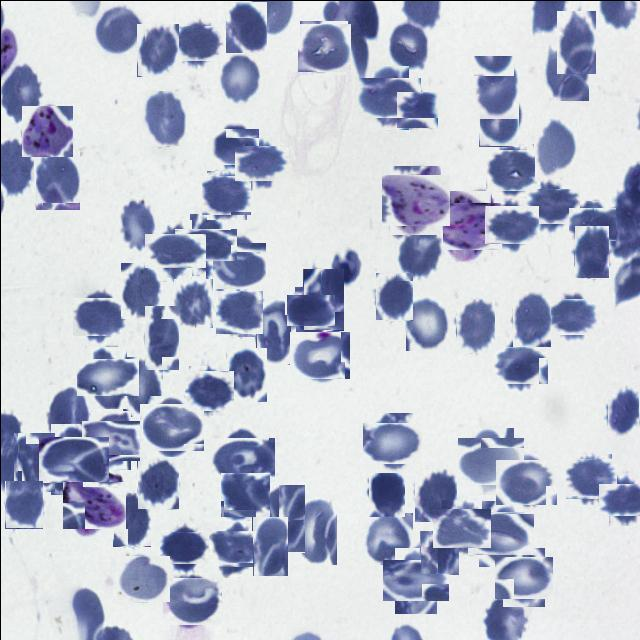red blood cell: (44, 430, 102, 488), (461, 432, 518, 489), (143, 399, 199, 455), (292, 494, 336, 564), (472, 505, 528, 560), (260, 484, 304, 552), (472, 54, 518, 119), (215, 432, 269, 486), (165, 574, 219, 628), (208, 238, 262, 292), (498, 454, 552, 508), (292, 328, 346, 382), (388, 553, 442, 607), (46, 384, 88, 453), (34, 149, 80, 210), (92, 5, 144, 58), (254, 297, 295, 363), (362, 71, 414, 123), (395, 223, 442, 280), (297, 22, 348, 72), (366, 417, 417, 467), (363, 512, 412, 564), (302, 268, 343, 330), (12, 432, 54, 492), (498, 552, 548, 602), (116, 552, 166, 602), (82, 352, 132, 402), (85, 414, 135, 464), (556, 8, 595, 72), (534, 118, 576, 177), (141, 90, 185, 146), (405, 294, 449, 350), (544, 44, 588, 100), (436, 503, 486, 552), (122, 356, 162, 416), (488, 146, 536, 194), (182, 220, 230, 268), (150, 226, 198, 274), (120, 262, 161, 318), (143, 305, 178, 370), (414, 468, 456, 521), (218, 53, 260, 106), (136, 23, 178, 76), (136, 456, 178, 509), (225, 347, 266, 401), (213, 525, 260, 572), (221, 471, 268, 518), (495, 342, 543, 388), (225, 1, 268, 52), (488, 200, 534, 247), (252, 516, 288, 576), (455, 298, 494, 353), (512, 290, 550, 346), (117, 197, 155, 253), (568, 456, 614, 502), (75, 292, 121, 338), (238, 140, 284, 186), (216, 288, 262, 334), (112, 492, 150, 546), (172, 278, 212, 328), (389, 20, 428, 71), (204, 172, 248, 217), (478, 97, 518, 146), (549, 294, 593, 338), (530, 184, 574, 228), (186, 368, 230, 412), (176, 21, 220, 64), (573, 225, 608, 278), (368, 465, 404, 516), (374, 272, 412, 320), (4, 480, 42, 528), (163, 526, 206, 568), (213, 125, 255, 167), (606, 384, 638, 438), (419, 530, 458, 574), (571, 204, 612, 244), (290, 290, 330, 330), (602, 478, 640, 520), (397, 90, 436, 128)
trophozoite: (436, 196, 496, 256), (384, 170, 444, 230), (66, 476, 121, 532), (21, 105, 72, 156)
